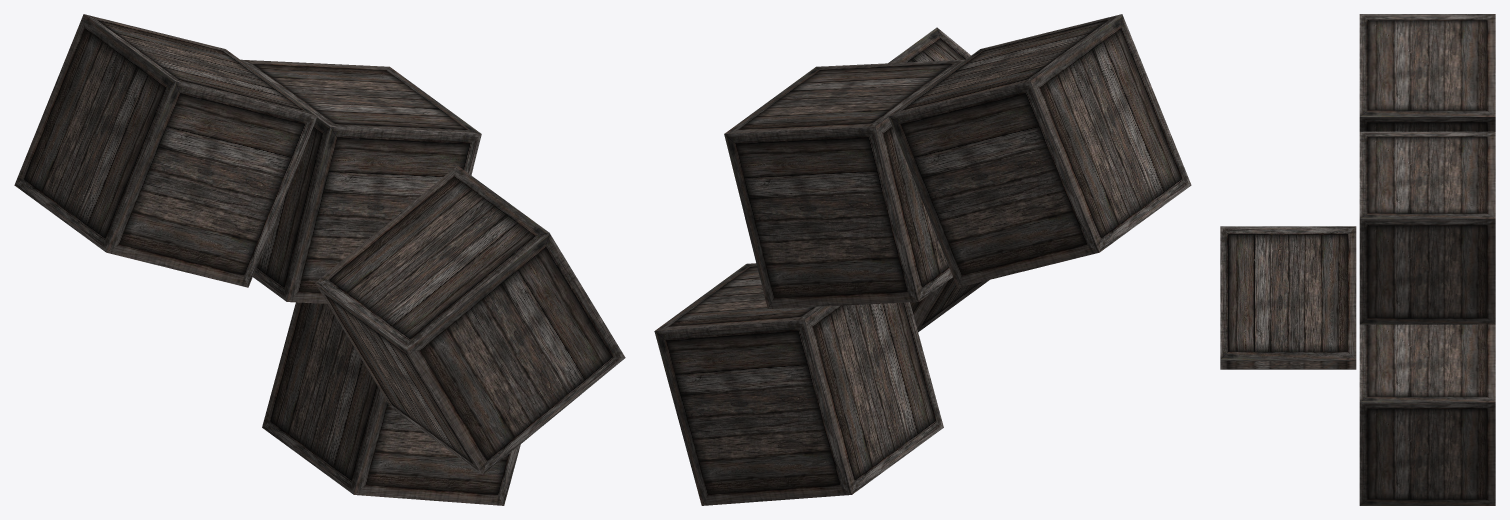
File: cratesx4_wtf.obj
The picture shows the model from 3 angles, left to right: view 1: azimuth 30°, elevation 25°; view 2: azimuth 150°, elevation 25°; view 3: azimuth 270°, elevation 25°; orthographic projection. The views are drawn at different scales.
Parts seen in each view (by area): view 1: group3, group5, group2, group4; view 2: group3, group4, group2, group5; view 3: group2, group4, group5, group3.
Boxes of the visible parts, left/top/right/bottom form: group3: left=14, top=14, right=317, bottom=287; group5: left=315, top=165, right=625, bottom=474; group2: left=240, top=59, right=481, bottom=303; group4: left=262, top=302, right=520, bottom=505; group3: left=888, top=14, right=1191, bottom=287; group4: left=654, top=263, right=943, bottom=505; group2: left=724, top=59, right=965, bottom=308; group5: left=888, top=27, right=989, bottom=332; group2: left=1359, top=131, right=1495, bottom=324; group4: left=1359, top=324, right=1495, bottom=505; group5: left=1220, top=226, right=1356, bottom=369; group3: left=1359, top=14, right=1495, bottom=131.
Bounding box in the file's own units: 609 × 660 × 441.
